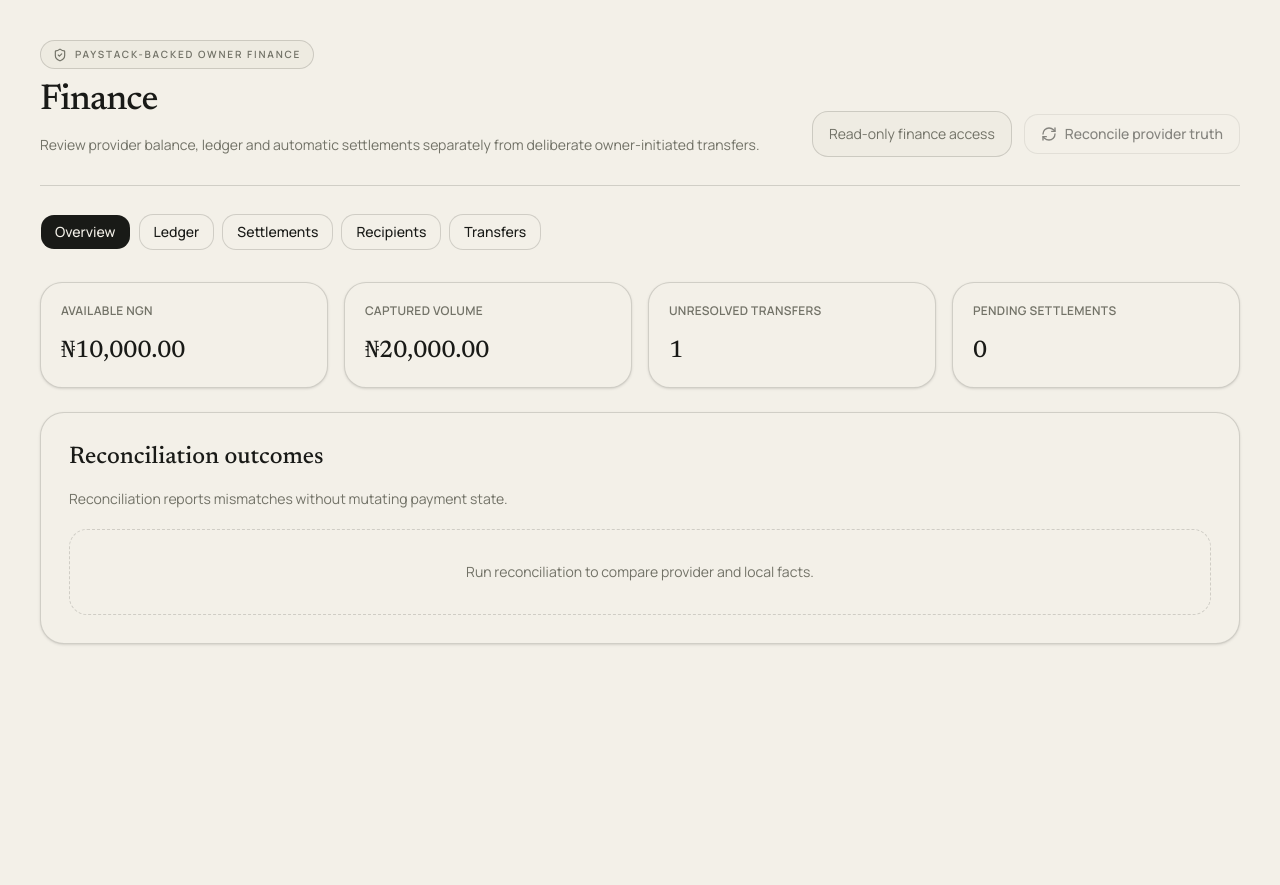
Test case: FinanceWorkspace › shows provider balance and keeps manager money controls read-only
expect the text "₦10,000.00" is shown: met, box [61,339,185,363]
expect the text "Read-only finance access" is shown: met, box [812,111,1012,157]
Click the button "Transfers" at coordinates (495, 232), box [449,214,541,250]
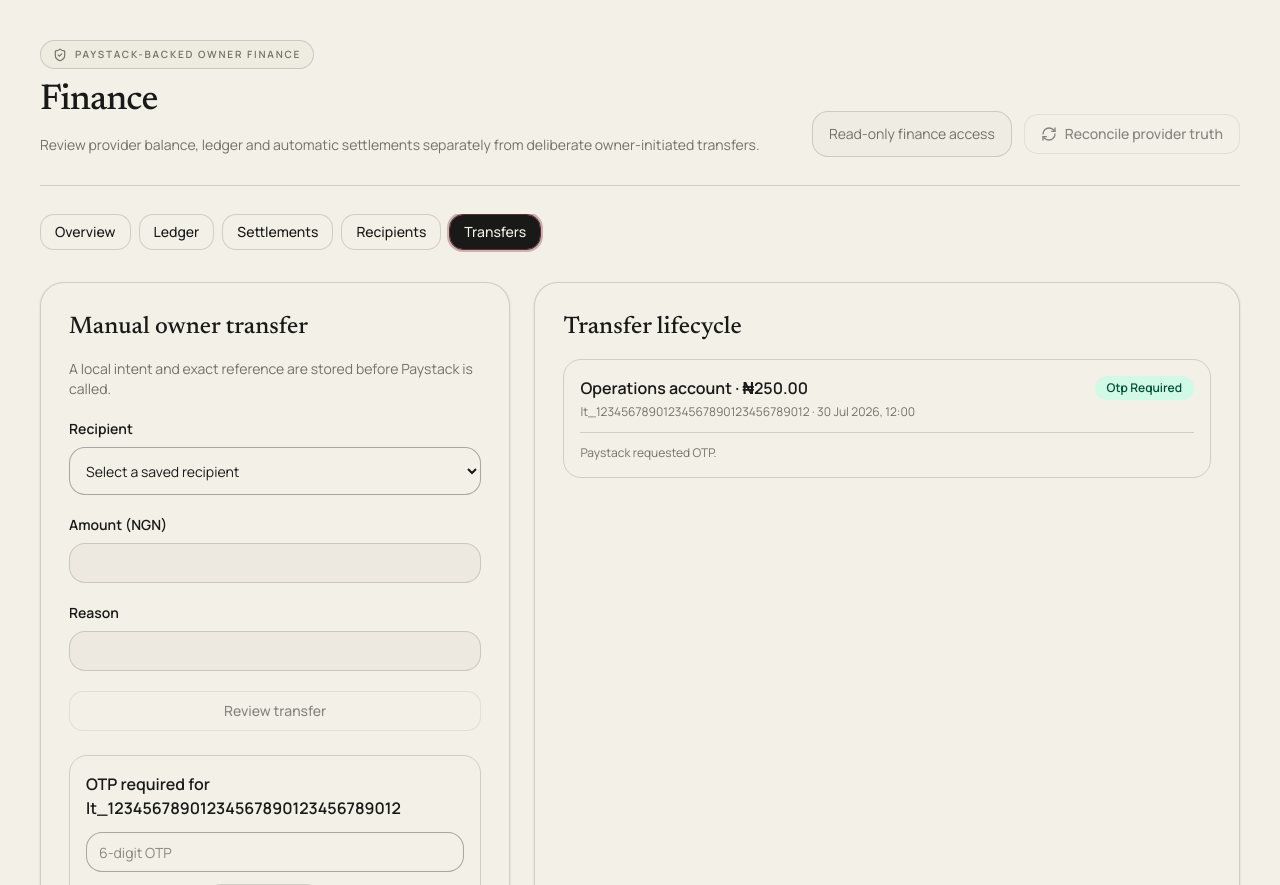
expect the button "Review transfer" is disabled: met, box [69,691,481,731]
